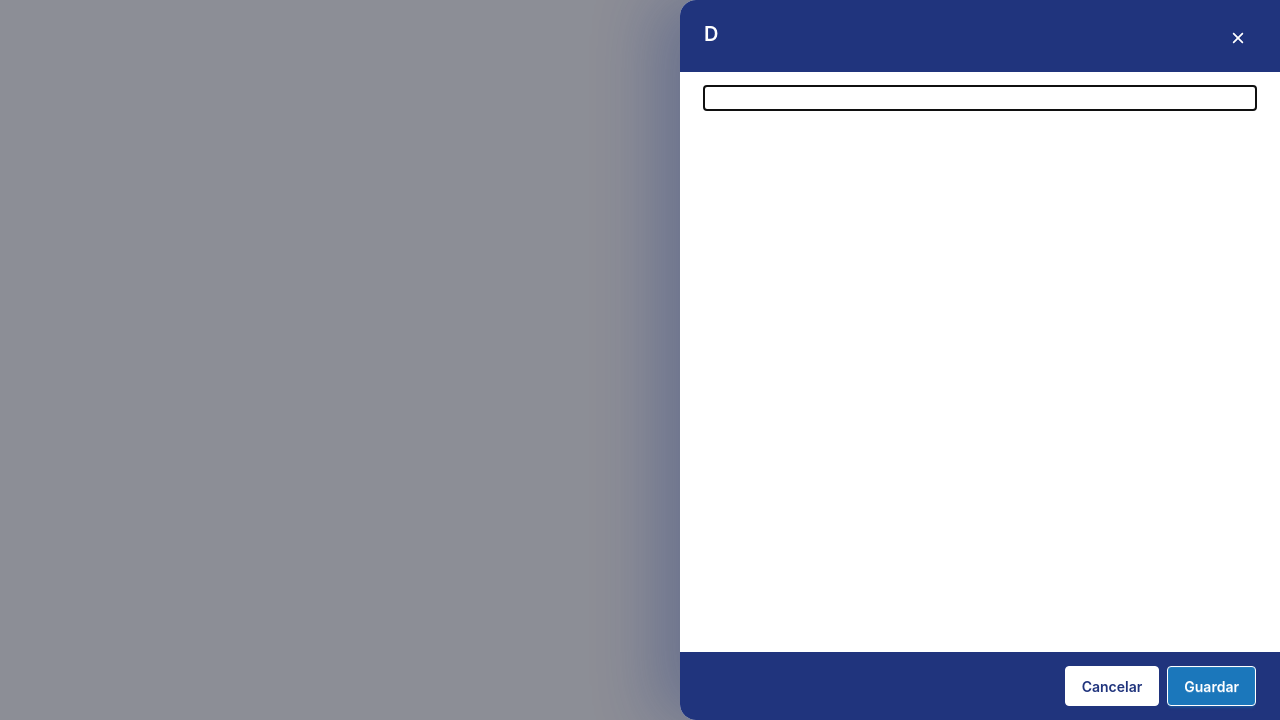
Test: DrawerLateral · descarte › el aspa y el velo preguntan igual que Escape
Click the 2nd button named "Cerrar": (1238, 38) [1220,20,1256,56]
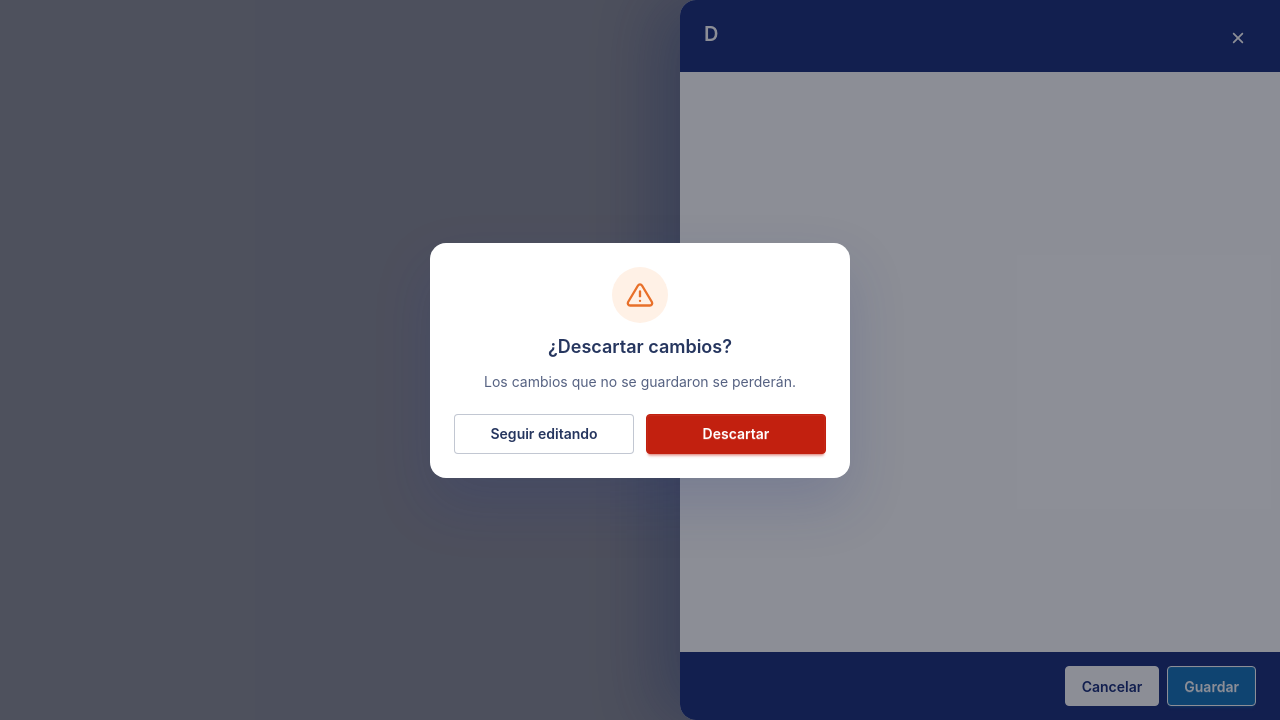
Expected: the heading "¿Descartar cambios?" is shown, [548,332,732,360]
Click the button "Seguir editando": (544, 434) [454,414,634,454]
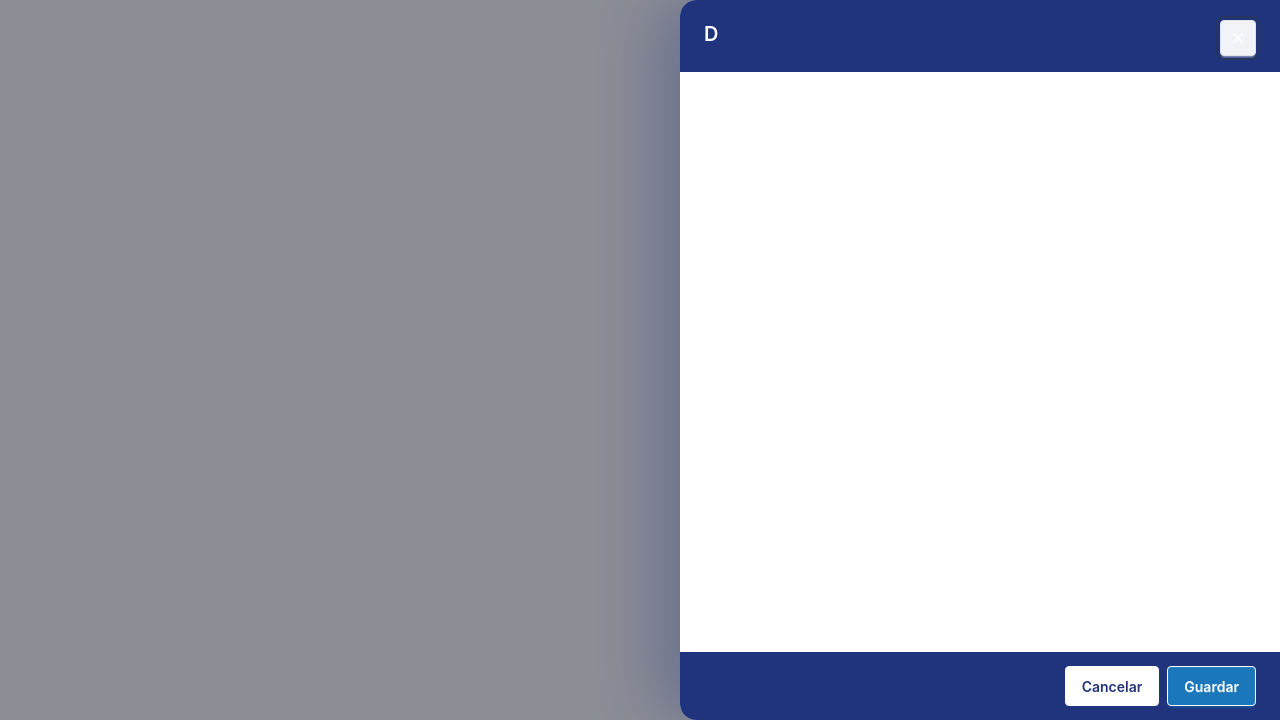
Click the 1st button named "Cerrar": (640, 360) [0,0,1279,719]
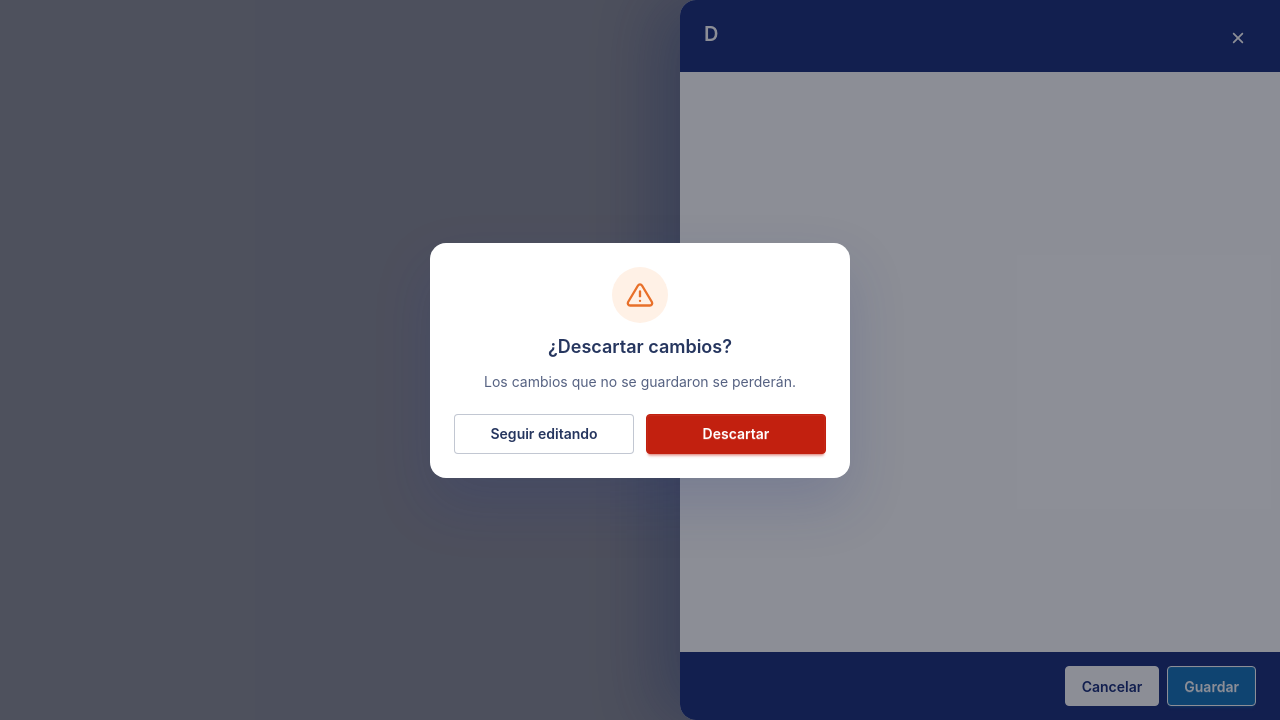
Expected: the heading "¿Descartar cambios?" is shown, [548,332,732,360]
